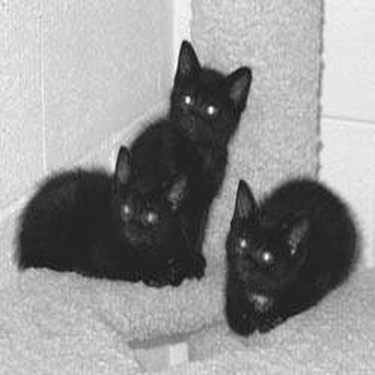cat: (120, 37, 252, 283), (16, 139, 207, 289), (225, 172, 360, 336)
